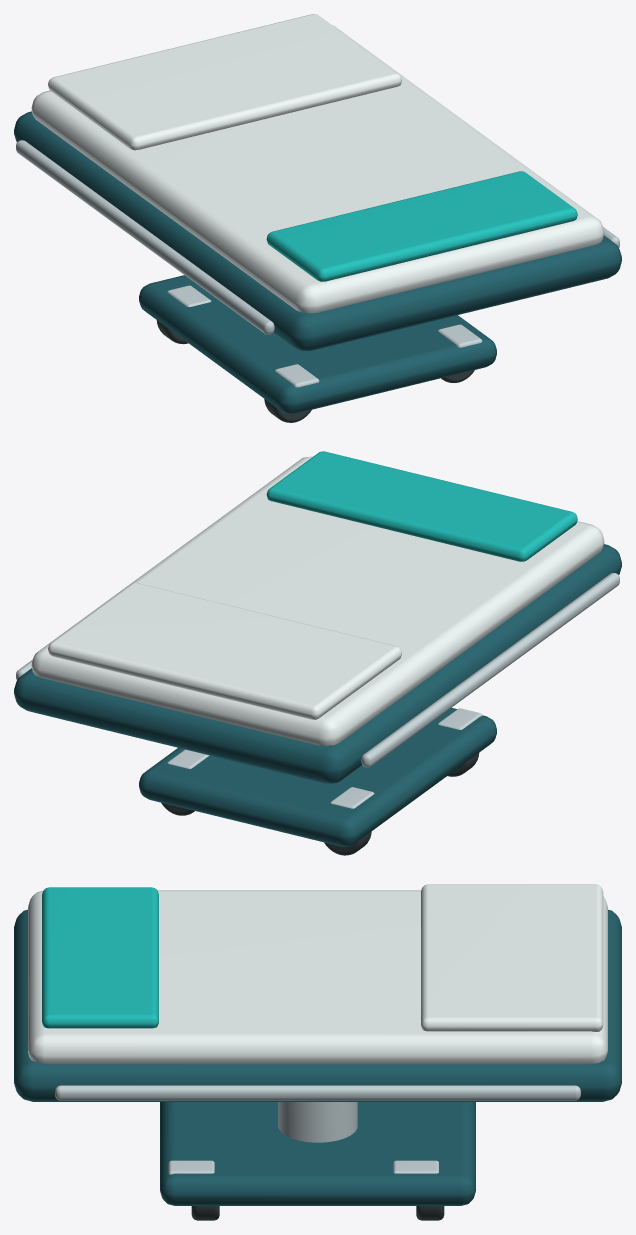
File: Mesa_Quirurgica.fbx
3 renders of one model, top to bottom at view 1: azimuth 30°, elevation 25°; view 2: azimuth 150°, elevation 25°; view 3: azimuth 270°, elevation 25°, orthographic. The views are drawn at different scales.
Parts seen in each view (by area): view 1: Colchon_segmentado, Seccion_de_piernas, Bastidor_superior, Base_movil, Seccion_de_cabeza, Riel_lateral, Pedal_de_freno_Parte_03, Pedal_de_freno, Pedal_de_freno_Parte_02; view 2: Colchon_segmentado, Seccion_de_piernas, Bastidor_superior, Base_movil, Seccion_de_cabeza, Riel_lateral, Pedal_de_freno, Pedal_de_freno_Parte_02; view 3: Colchon_segmentado, Base_movil, Seccion_de_piernas, Bastidor_superior, Seccion_de_cabeza, Riel_lateral_Parte_02, Columna_hidraulica, Pedal_de_freno_Parte_03, Pedal_de_freno_Parte_04.
Boxes of the visible parts, x1,y1,x2,y2 form: Colchon_segmentado: (31, 25, 604, 313); Seccion_de_piernas: (48, 14, 401, 150); Bastidor_superior: (14, 111, 621, 351); Base_movil: (139, 275, 496, 414); Seccion_de_cabeza: (266, 171, 577, 281); Riel_lateral: (16, 140, 274, 334); Pedal_de_freno_Parte_03: (438, 324, 482, 347); Pedal_de_freno: (275, 364, 319, 387); Pedal_de_freno_Parte_02: (167, 285, 211, 306); Colchon_segmentado: (31, 456, 604, 745); Seccion_de_piernas: (48, 583, 401, 719); Bastidor_superior: (14, 544, 621, 783); Base_movil: (139, 707, 496, 846); Seccion_de_cabeza: (266, 451, 577, 561); Riel_lateral: (361, 573, 619, 767); Pedal_de_freno: (438, 708, 482, 729); Pedal_de_freno_Parte_02: (330, 787, 374, 808); Colchon_segmentado: (28, 890, 607, 1064); Base_movil: (160, 1102, 475, 1205); Seccion_de_piernas: (421, 884, 603, 1031); Bastidor_superior: (14, 909, 621, 1101); Seccion_de_cabeza: (42, 887, 158, 1028); Riel_lateral_Parte_02: (55, 1085, 580, 1100); Columna_hidraulica: (278, 1102, 357, 1142); Pedal_de_freno_Parte_03: (168, 1160, 214, 1174); Pedal_de_freno_Parte_04: (393, 1160, 438, 1173).
Bounding box in the file's own units: 1.83 × 1.07 × 2.6.
